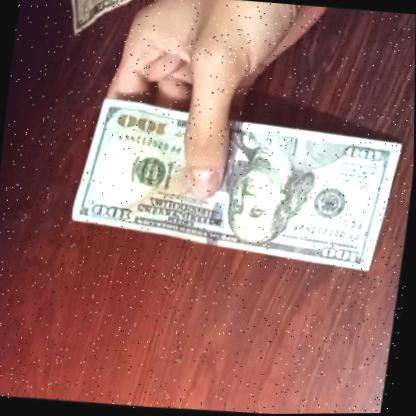one_hundred-front: (64, 82, 410, 275)
